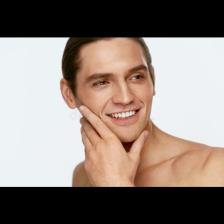Normal: (78, 44, 150, 139)
